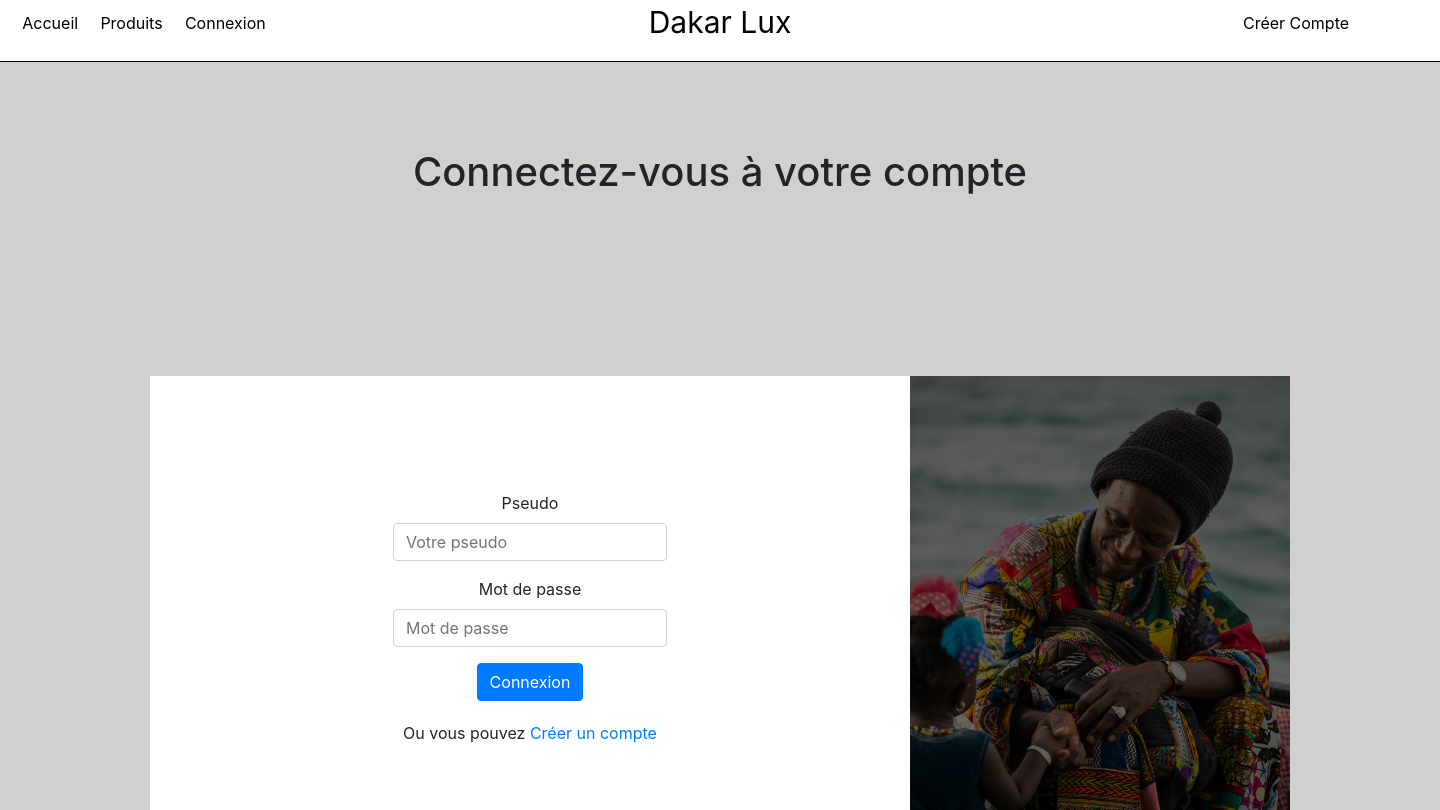
Test: tests the App renders the different pages › renders the product page correctly
Click the link with test id "products-nav-link": (132, 22) [100, 12, 163, 32]
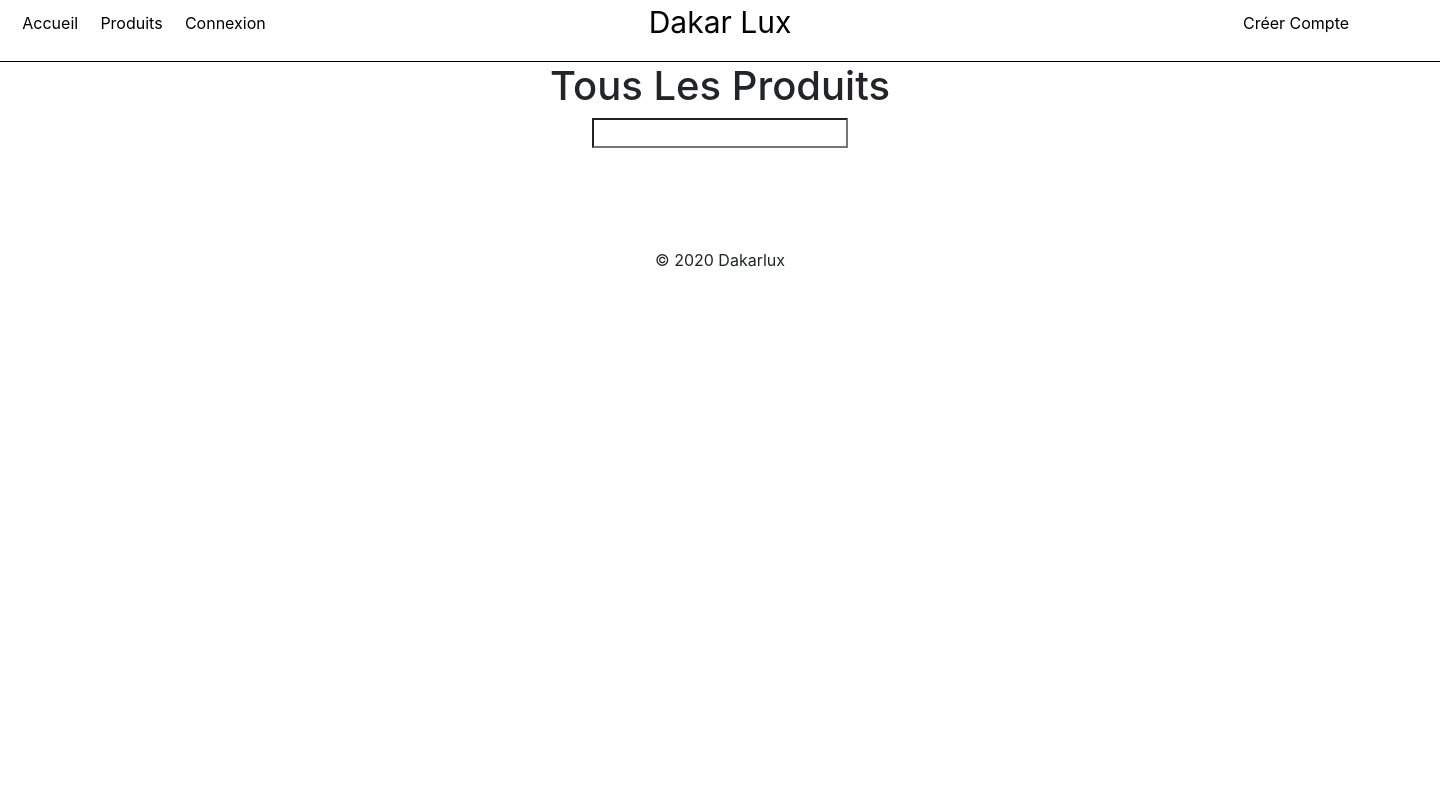
Check: the element with test id "all-products-div" is shown, box [550, 61, 890, 148]
